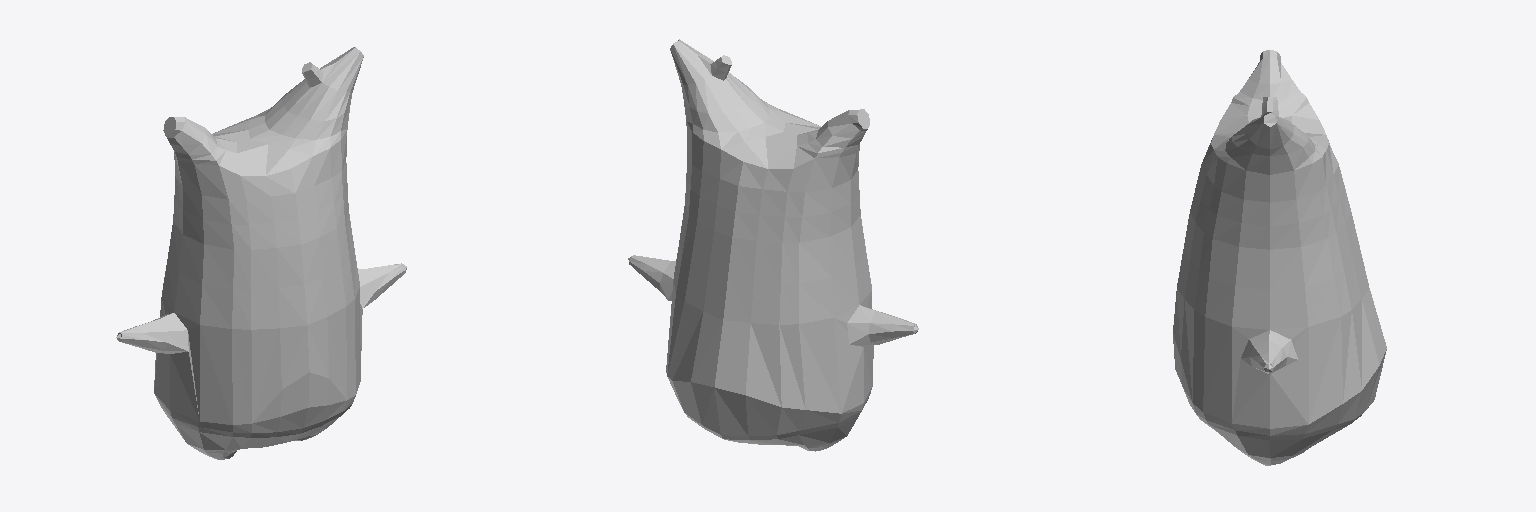
File: frame_0030.obj
The picture shows the model from 3 angles: view 1: azimuth 30°, elevation 25°; view 2: azimuth 150°, elevation 25°; view 3: azimuth 270°, elevation 25°; orthographic projection.
Parts seen in each view (by area): view 1: korok; view 2: korok; view 3: korok.
Boxes of the visible parts, box(x1,y1,x2,y2) form: korok: box(116, 47, 406, 459); korok: box(628, 39, 918, 451); korok: box(1173, 50, 1386, 465).
Size of the model in its own units: 1.67 by 2.08 by 1.07.